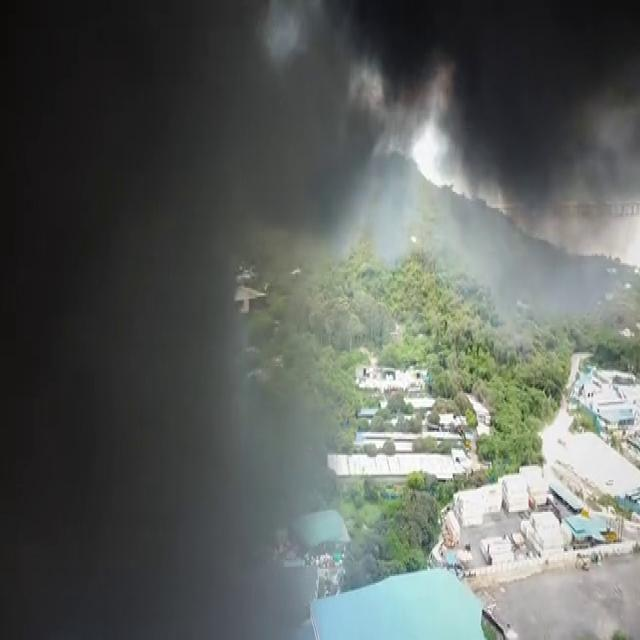smoke: (3, 6, 230, 635), (235, 8, 419, 254), (484, 7, 640, 211), (406, 6, 509, 191), (478, 210, 640, 324), (236, 360, 338, 527), (232, 540, 304, 634)
